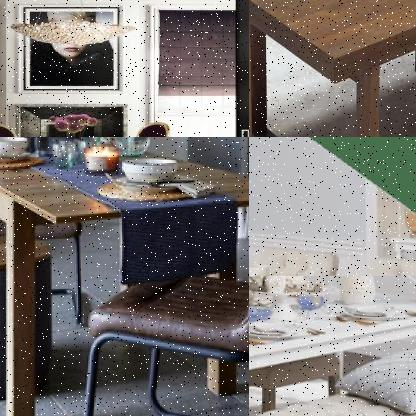table: (0, 137, 248, 415), (249, 276, 415, 415), (249, 0, 415, 136)
